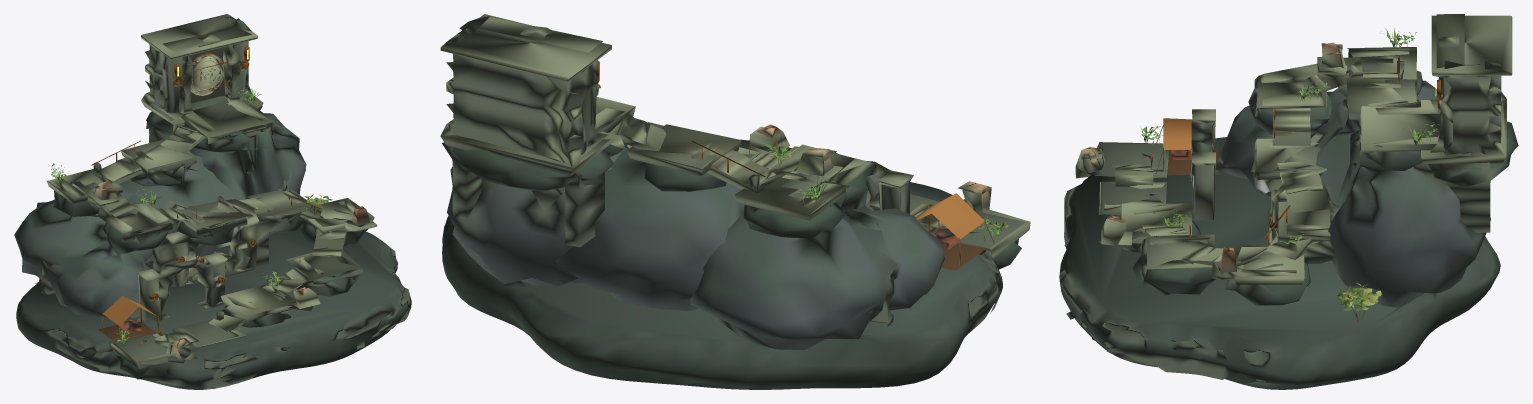
The model's file is viridis.far.glb.
The picture shows the model from 3 angles, left to right: view 1: azimuth 30°, elevation 25°; view 2: azimuth 150°, elevation 25°; view 3: azimuth 270°, elevation 25°; orthographic projection. The views are drawn at different scales.
Visible parts, largest first — view 1: static_mineral, static_metal, static_organic; view 2: static_mineral, static_organic; view 3: static_mineral, static_organic, static_metal.
Part boxes in pixels (x1=…): static_mineral: x1=14, y1=14, x2=411, y2=389; static_metal: x1=91, y1=46, x2=320, y2=336; static_organic: x1=32, y1=84, x2=332, y2=346; static_mineral: x1=440, y1=14, x2=1030, y2=389; static_organic: x1=747, y1=134, x2=1011, y2=339; static_mineral: x1=1059, y1=14, x2=1518, y2=389; static_organic: x1=1140, y1=28, x2=1439, y2=322; static_metal: x1=1151, y1=57, x2=1440, y2=246.
Bounding box in the file's own units: 23.97 × 13.93 × 20.44.
